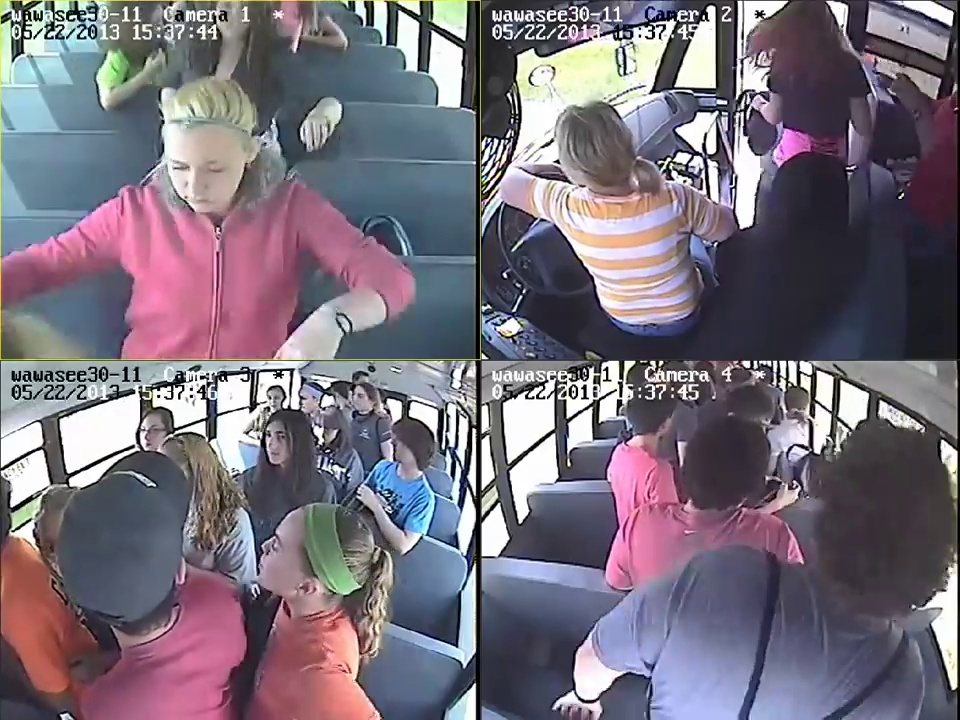face: (159, 134, 240, 215), (249, 516, 300, 584), (262, 424, 292, 463), (138, 413, 164, 450), (390, 427, 414, 467), (351, 387, 373, 416), (266, 388, 283, 409), (297, 394, 315, 413)
